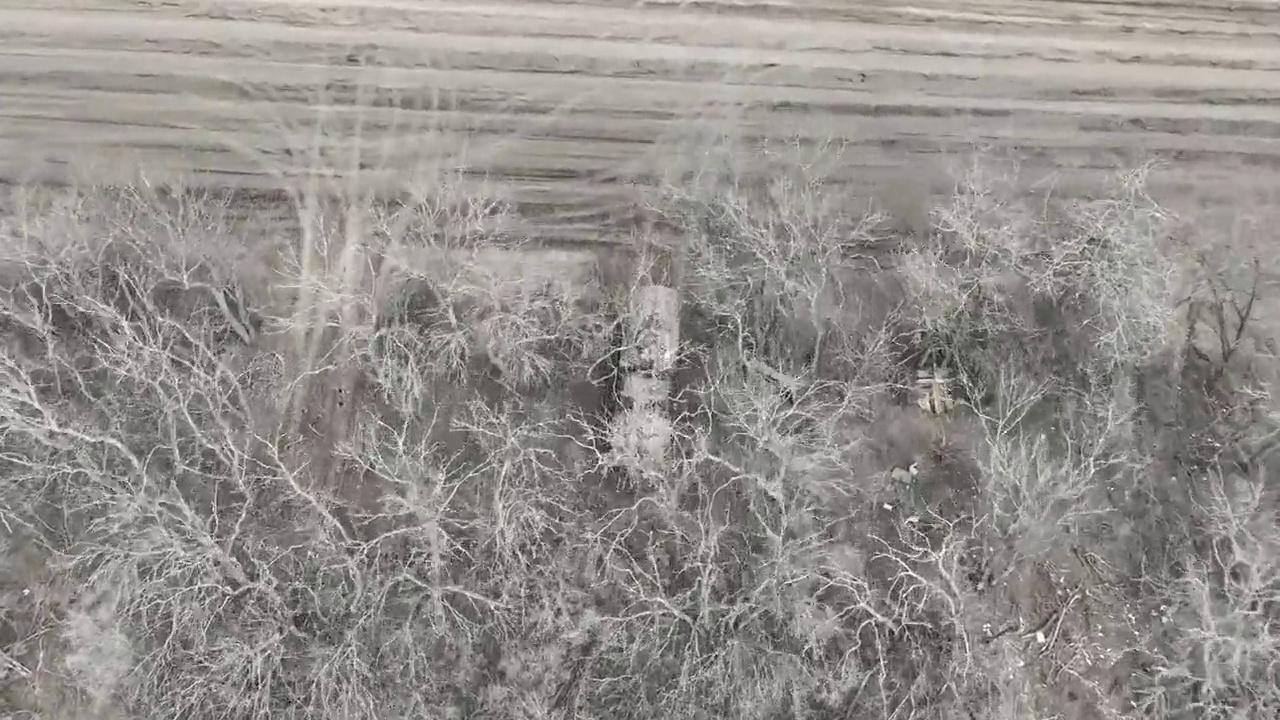vehicle: (614, 284, 679, 485)
